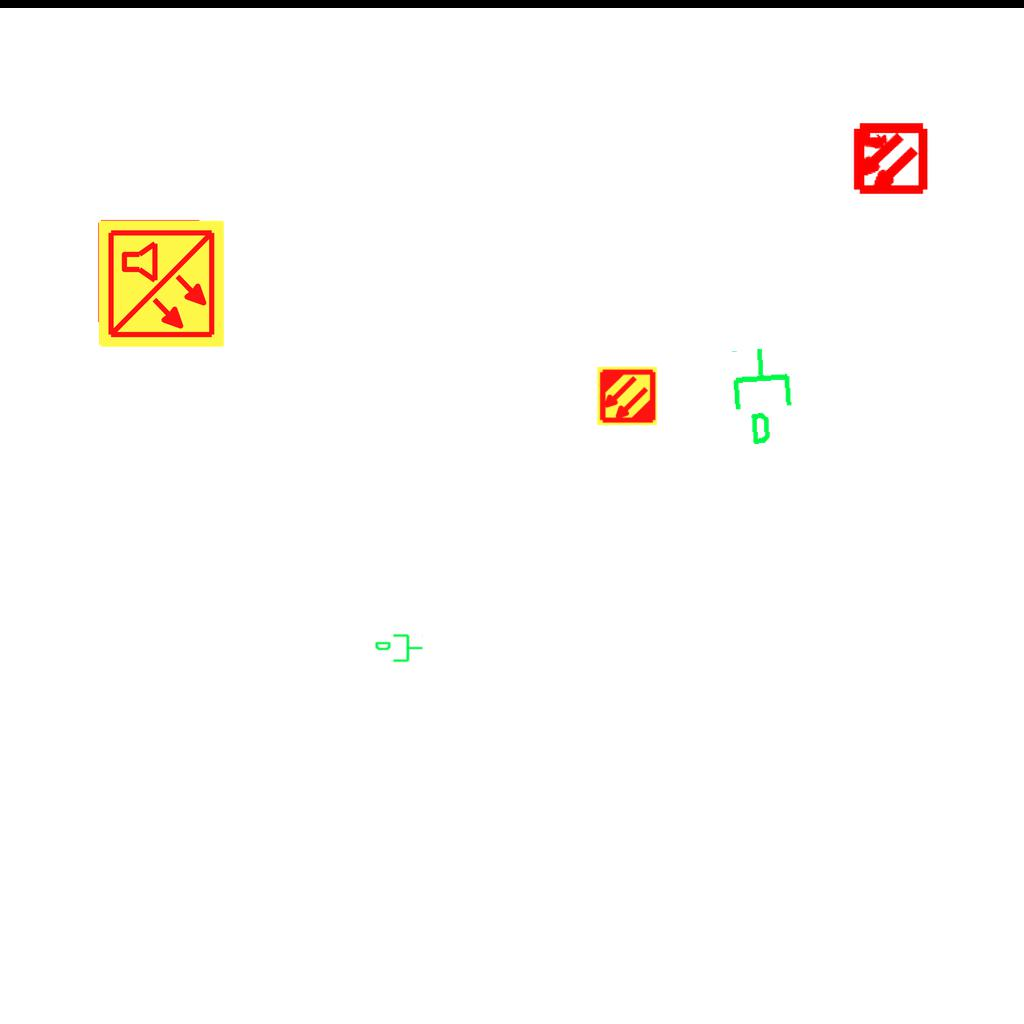ASR_Ansaugrauchmelder: (596, 365, 658, 427)
Datenanschluss_einfach: (726, 343, 803, 449), (374, 632, 424, 666)
OKW_Multisensormelder_(Kombination_optischer_Rauch-Kahlenmonoxid_Waerme-Melder): (95, 218, 227, 350)
OT_Multisensormelder_(Kombination_RMO_WMD): (832, 102, 945, 215)
